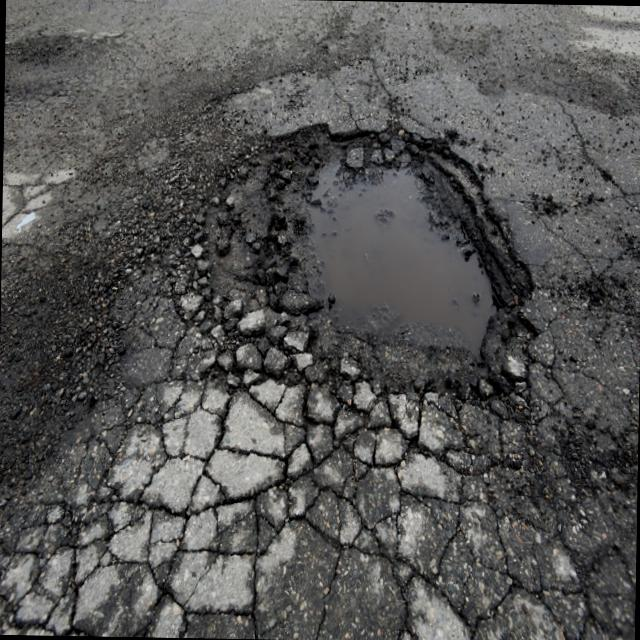bad-road: (0, 403, 629, 640), (192, 116, 546, 410)
